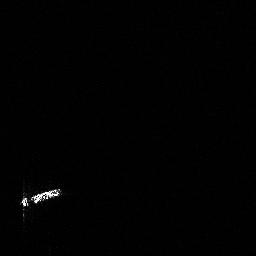ship: (22, 188, 62, 207)
